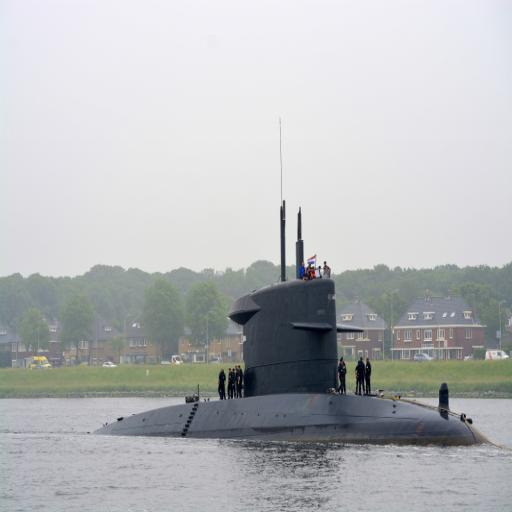submarine: (86, 192, 500, 452)
